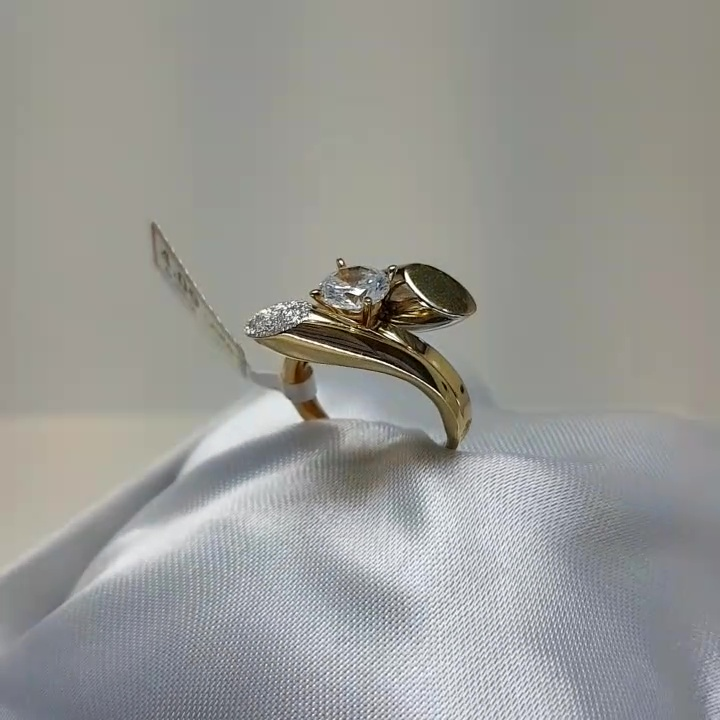Ring 7: (227, 226, 511, 462)
